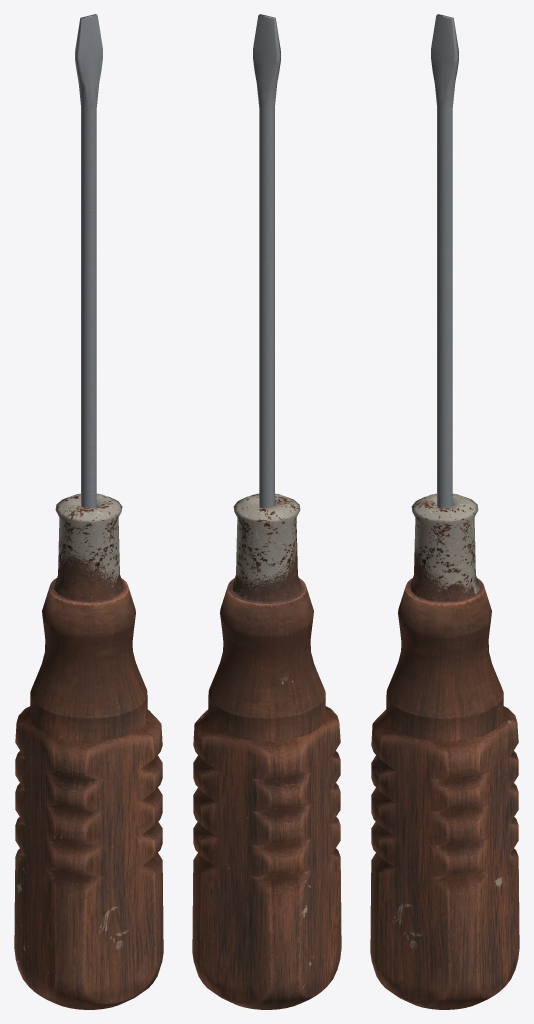
The model's file is screwdriver-transformed.glb.
The picture shows the model from 3 angles, left to right: view 1: azimuth 30°, elevation 25°; view 2: azimuth 150°, elevation 25°; view 3: azimuth 330°, elevation 25°; orthographic projection.
Parts seen in each view (by area): view 1: flathead_screwdriver; view 2: flathead_screwdriver; view 3: flathead_screwdriver.
Boxes of the visible parts, x1=… form: flathead_screwdriver: x1=14, y1=14, x2=163, y2=1009; flathead_screwdriver: x1=192, y1=14, x2=341, y2=1009; flathead_screwdriver: x1=370, y1=14, x2=519, y2=1009.
Bounding box in the file's own units: 0.03 × 0.2613 × 0.03.
Materials: 1 (1 with a texture image).
